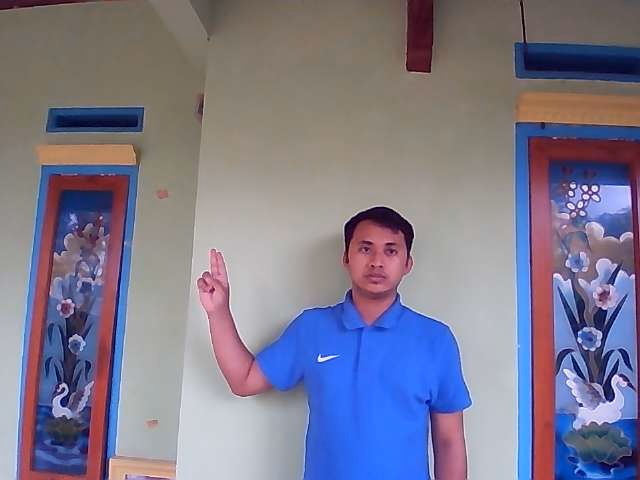U: (196, 248, 230, 311)
